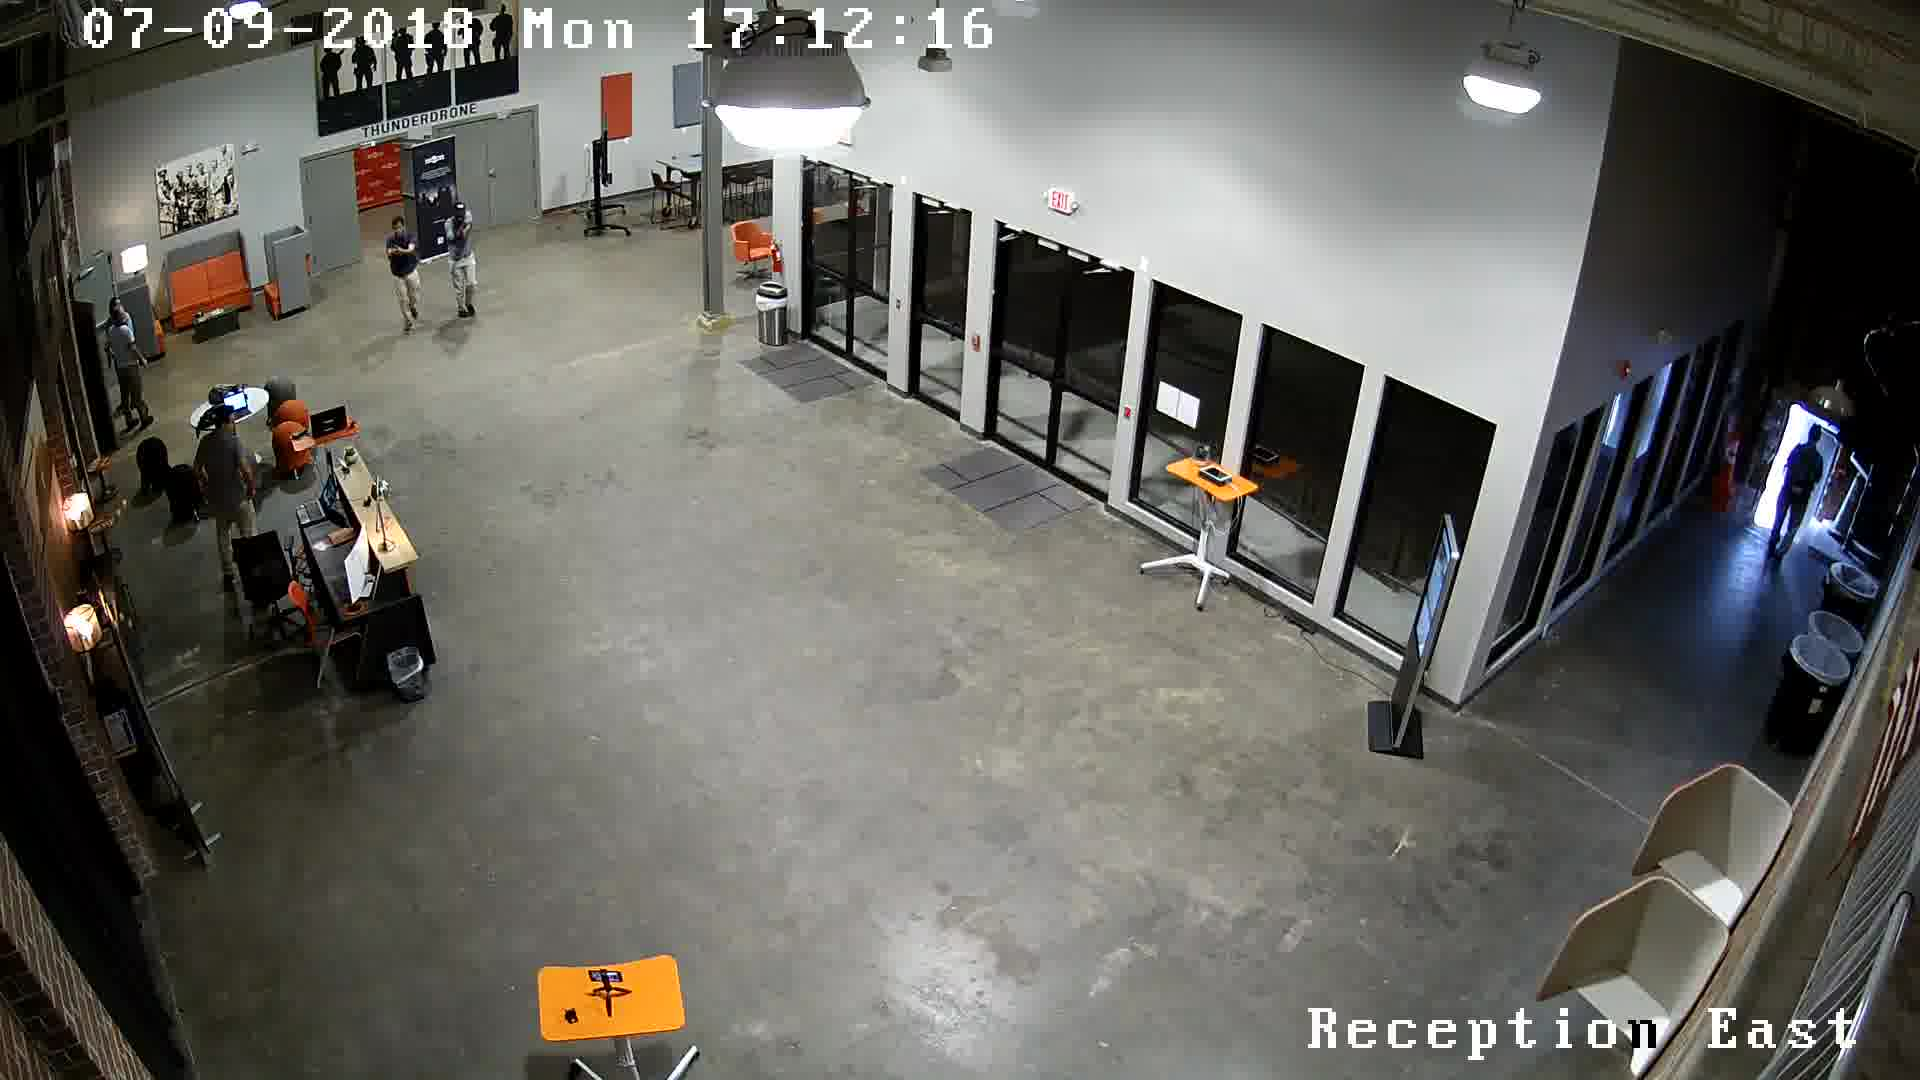pistol: (442, 229, 477, 260), (381, 243, 411, 264)
